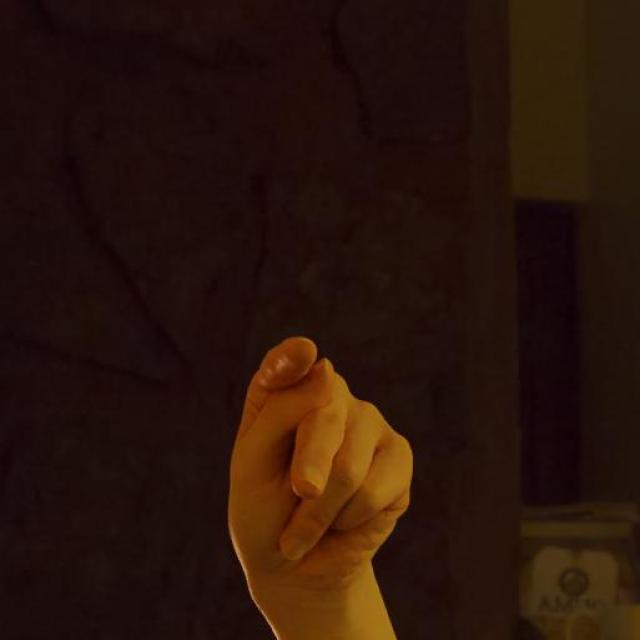P: (198, 304, 444, 636)
